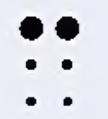kaniya: (19, 16, 79, 106)
